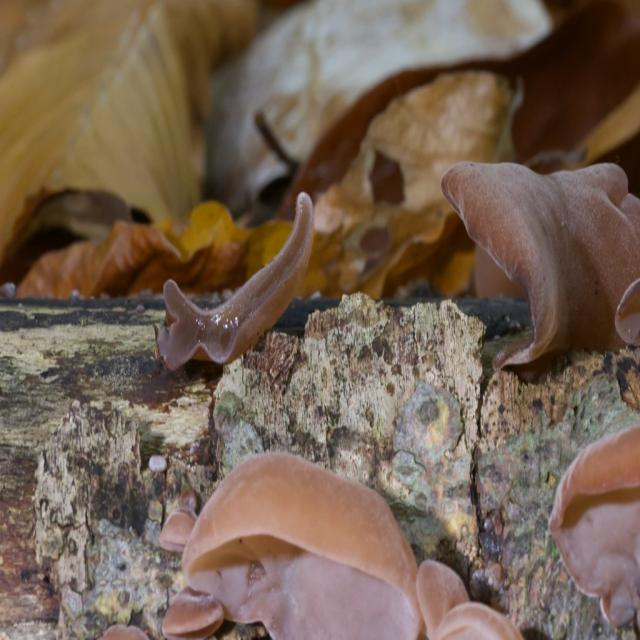Fase Muda: (418, 556, 526, 640), (161, 582, 225, 640)
Matang: (182, 450, 422, 640), (440, 156, 640, 374), (152, 188, 318, 378), (547, 416, 640, 640), (615, 274, 640, 352)
primordia: (158, 484, 199, 556), (147, 452, 167, 474)
